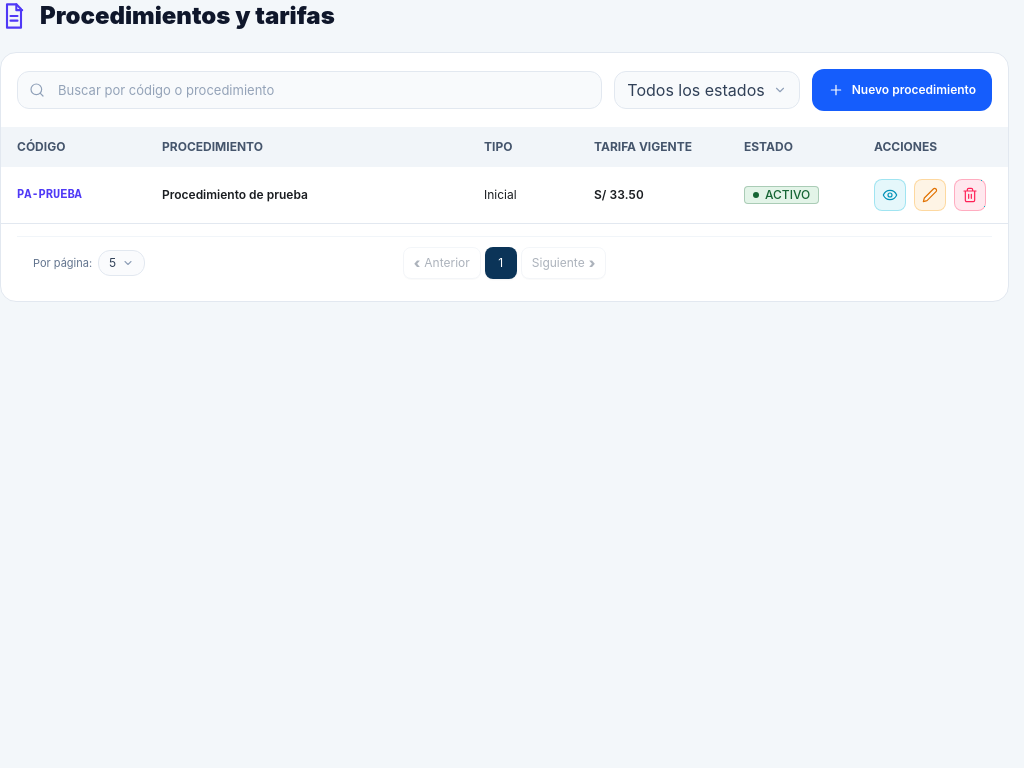
Test case: muestra la tabla y permite abrir el formulario de creación
expect the table shows "PA-PRUEBA": met, box left=17, top=188, right=82, bottom=202
Click the button "Nuevo procedimiento".
click(902, 90)  # box left=812, top=69, right=992, bottom=111
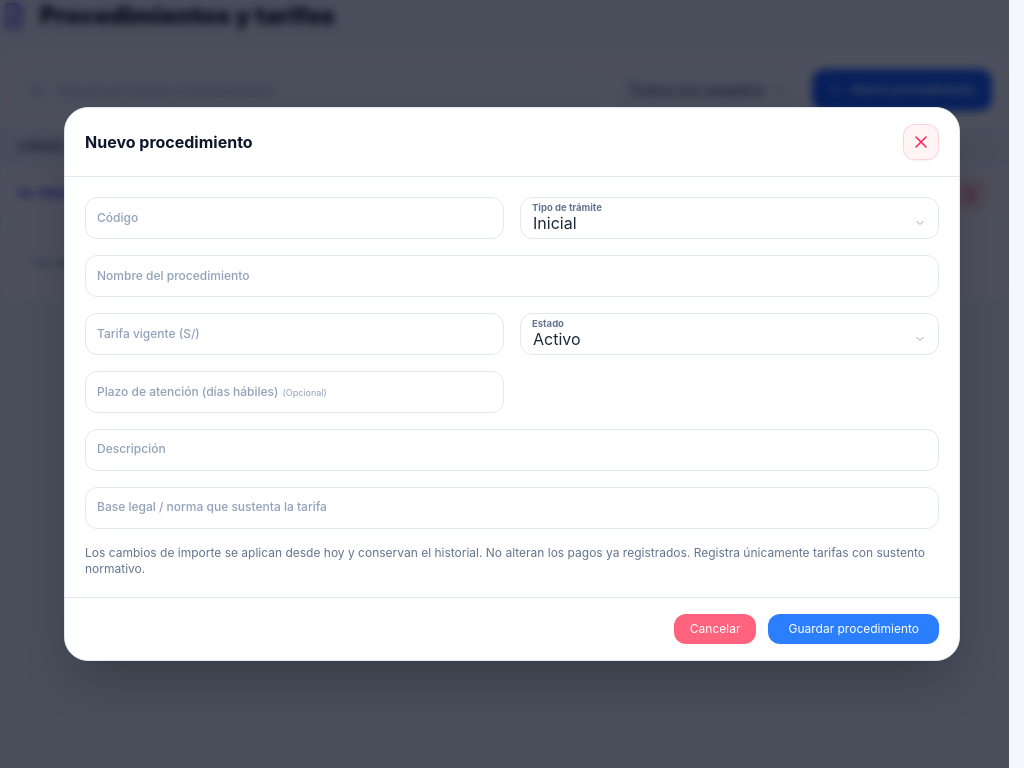
expect the field labelled "Código" is empty: met, box left=85, top=197, right=504, bottom=239
